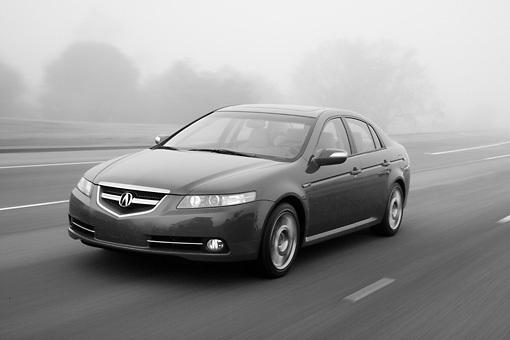car: (69, 105, 412, 280)
